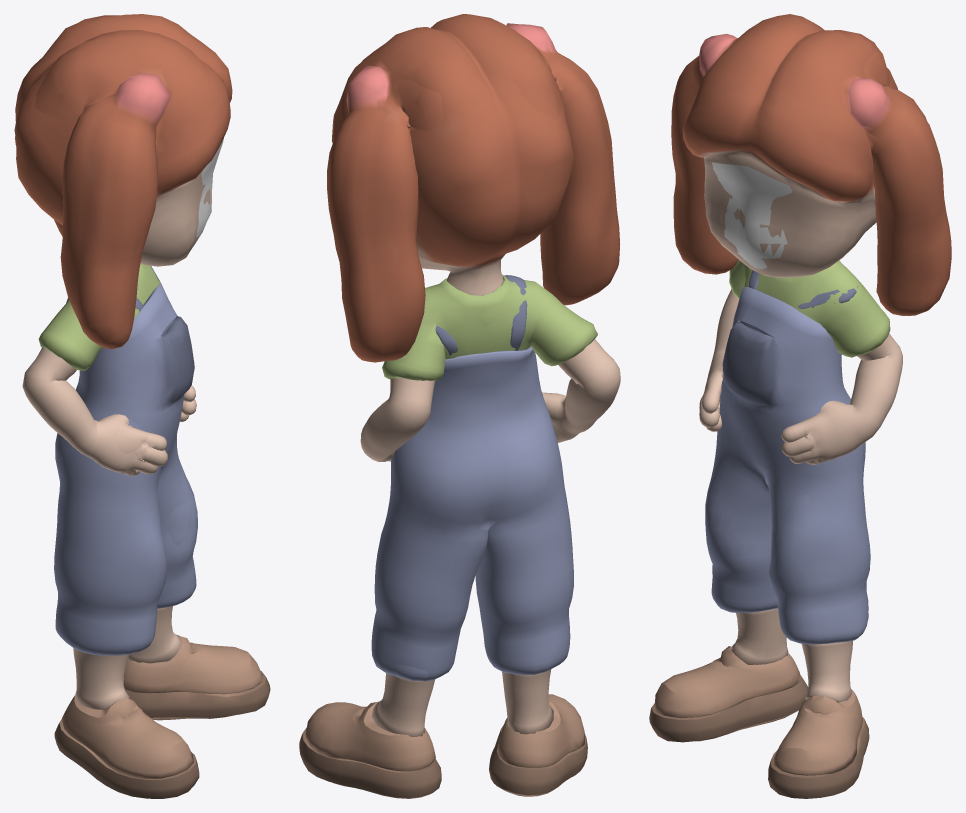
3 views of the same model, side by side, from view 1: azimuth 30°, elevation 25°; view 2: azimuth 150°, elevation 25°; view 3: azimuth 270°, elevation 25° (orthographic). The views are drawn at different scales.
Parts seen in each view (by area): view 1: Arms.029; view 2: Arms.029; view 3: Arms.029.
Boxes of the visible parts, <box> form: Arms.029: <box>14,14,270,798</box>; Arms.029: <box>299,14,620,798</box>; Arms.029: <box>649,14,951,798</box>.
Bounding box in the file's own units: 65.08 × 167 × 64.19.
